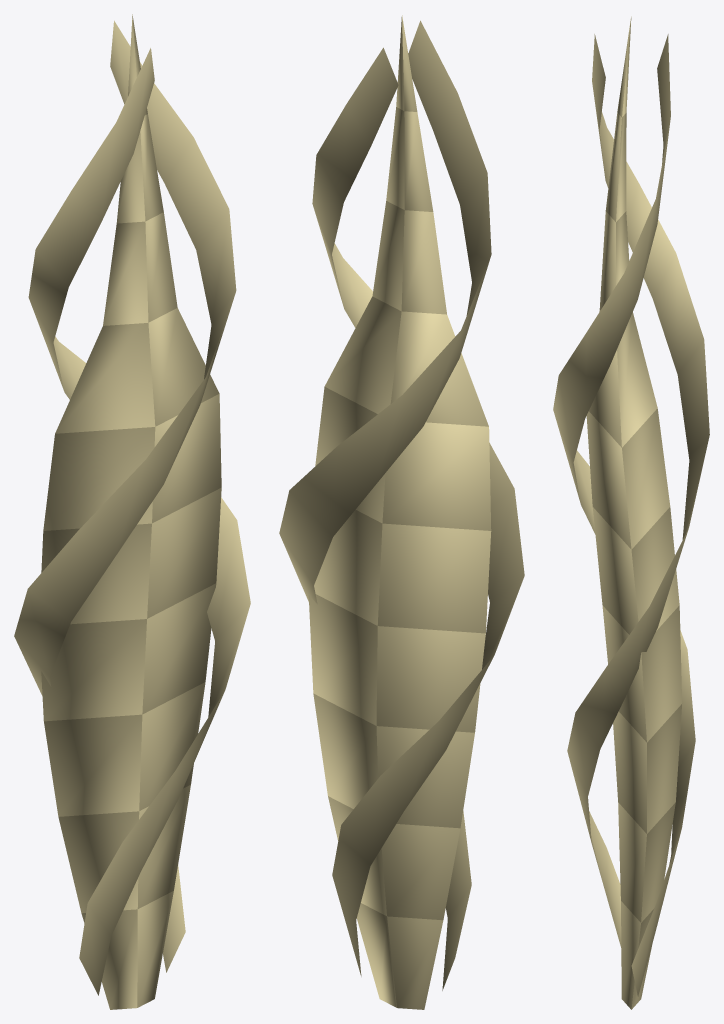
The model's file is SM_Vfx_WpnBladeAuraSheath.fbx.
3 views of the same model, side by side, from view 1: azimuth 30°, elevation 25°; view 2: azimuth 150°, elevation 25°; view 3: azimuth 270°, elevation 25° (orthographic).
Visible parts, largest first — view 1: SM_Vfx_WpnBladeAuraSheath; view 2: SM_Vfx_WpnBladeAuraSheath; view 3: SM_Vfx_WpnBladeAuraSheath.
Part boxes in pixels (x1,y1,x2,y2): SM_Vfx_WpnBladeAuraSheath: (14, 14, 250, 1009); SM_Vfx_WpnBladeAuraSheath: (279, 15, 524, 1009); SM_Vfx_WpnBladeAuraSheath: (553, 16, 709, 1009).
Size of the model in its own units: 0.2404 by 1 by 0.1442.
